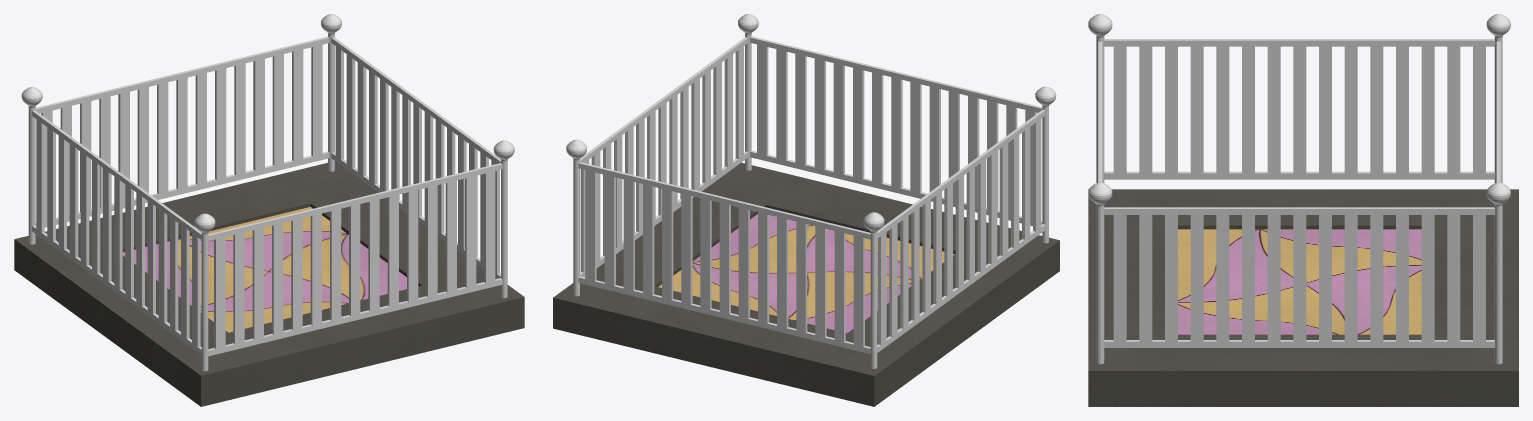
Rendered from tile_full.fbx.
The picture shows the model from 3 angles, left to right: view 1: azimuth 30°, elevation 25°; view 2: azimuth 150°, elevation 25°; view 3: azimuth 270°, elevation 25°; orthographic projection. The views are drawn at different scales.
Parts seen in each view (by area): view 1: Cube.002; view 2: Cube.002; view 3: Cube.002.
Boxes of the visible parts, x1,y1,x2,y2 form: Cube.002: (14,14,524,406); Cube.002: (553,14,1059,406); Cube.002: (1088,14,1518,406).
Size of the model in its own units: 100 by 55.24 by 100.
